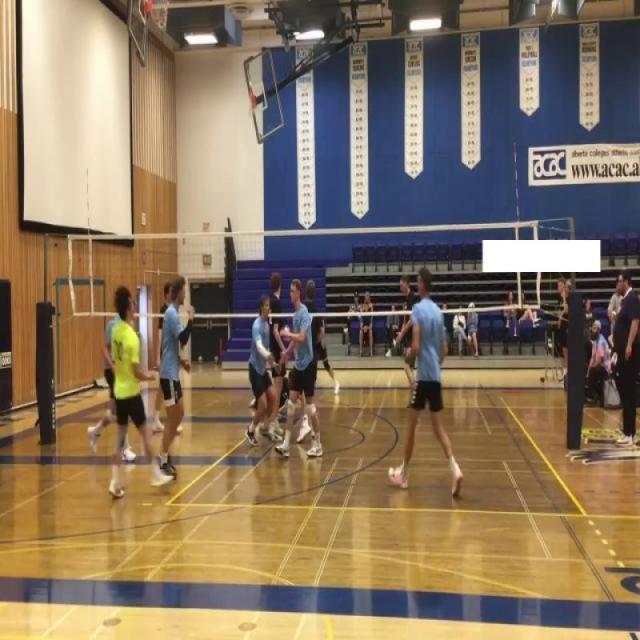volleyball: (282, 324, 290, 342), (198, 354, 203, 365), (214, 355, 219, 364)
